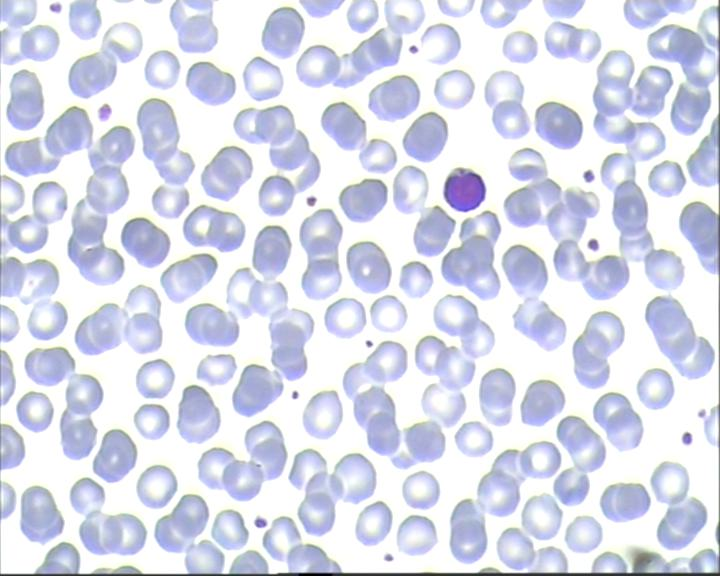lymp: (443, 163, 491, 213)
